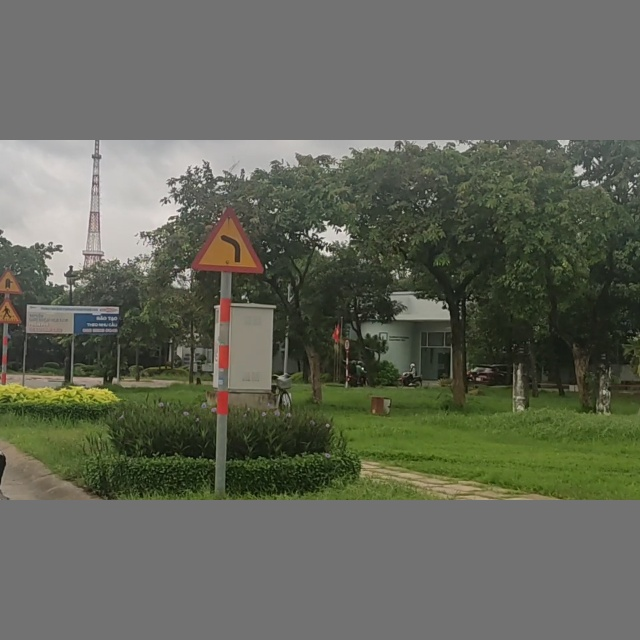W.201a: (192, 205, 265, 274)
W.207: (1, 266, 23, 296)
W.224: (1, 297, 23, 325)
